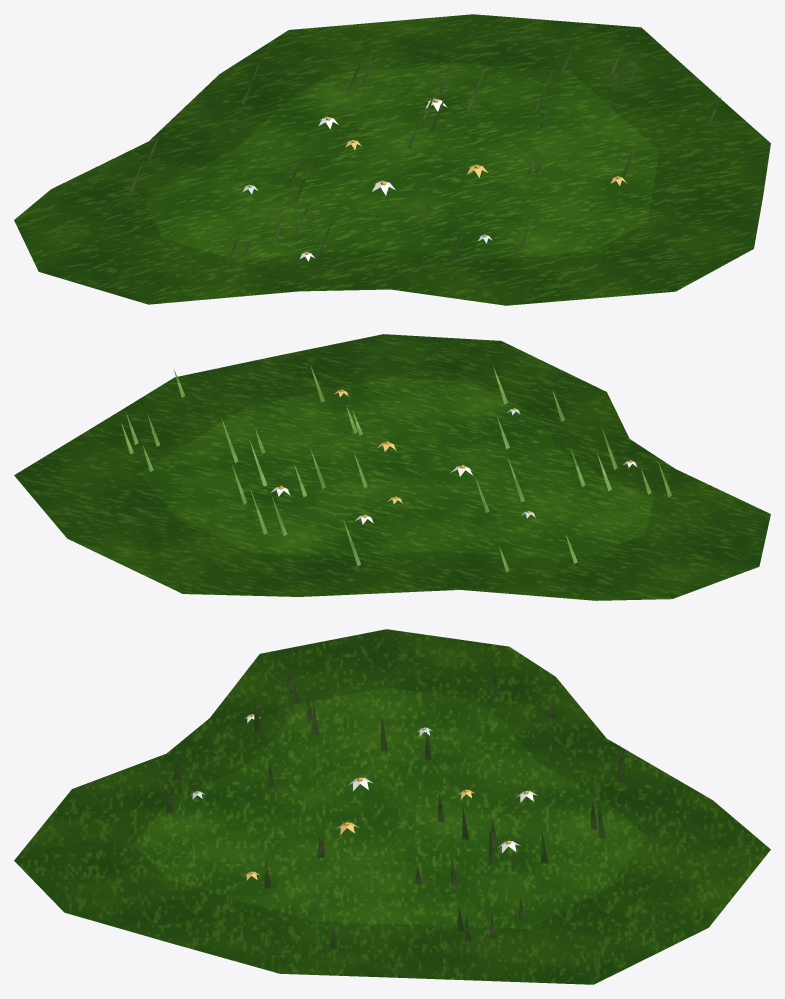
Rendered from turf_patch_cloud_a.glb.
3 renders of one model, top to bottom at view 1: azimuth 30°, elevation 25°; view 2: azimuth 150°, elevation 25°; view 3: azimuth 270°, elevation 25°, orthographic. The views are drawn at different scales.
Visible parts, largest first — view 1: turf_patch_cloud_a; view 2: turf_patch_cloud_a; view 3: turf_patch_cloud_a.
Boxes of the visible parts, box(x1,y1,x2,y2) form: turf_patch_cloud_a: box(14, 14, 770, 305); turf_patch_cloud_a: box(14, 334, 770, 600); turf_patch_cloud_a: box(14, 629, 770, 984).
Bounding box in the file's own units: 6.13 × 0.4437 × 5.51.
Materials: 3 (2 with a texture image).
